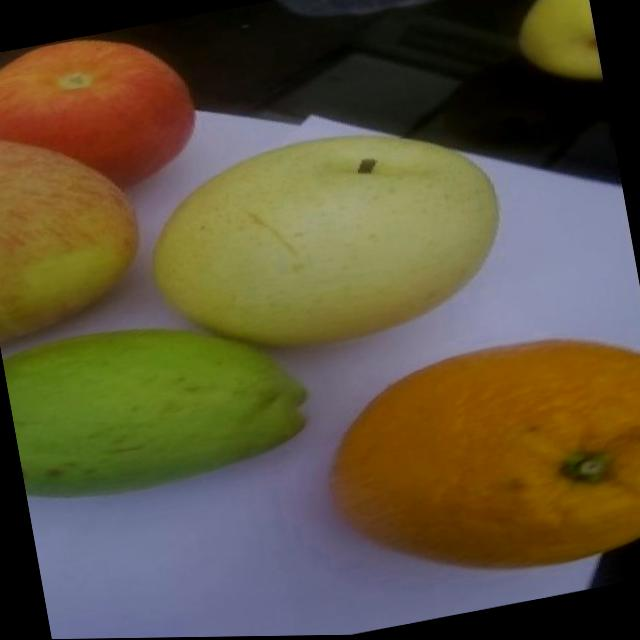Apple: (0, 24, 208, 216), (0, 103, 157, 348)
Orange: (308, 311, 640, 606)
